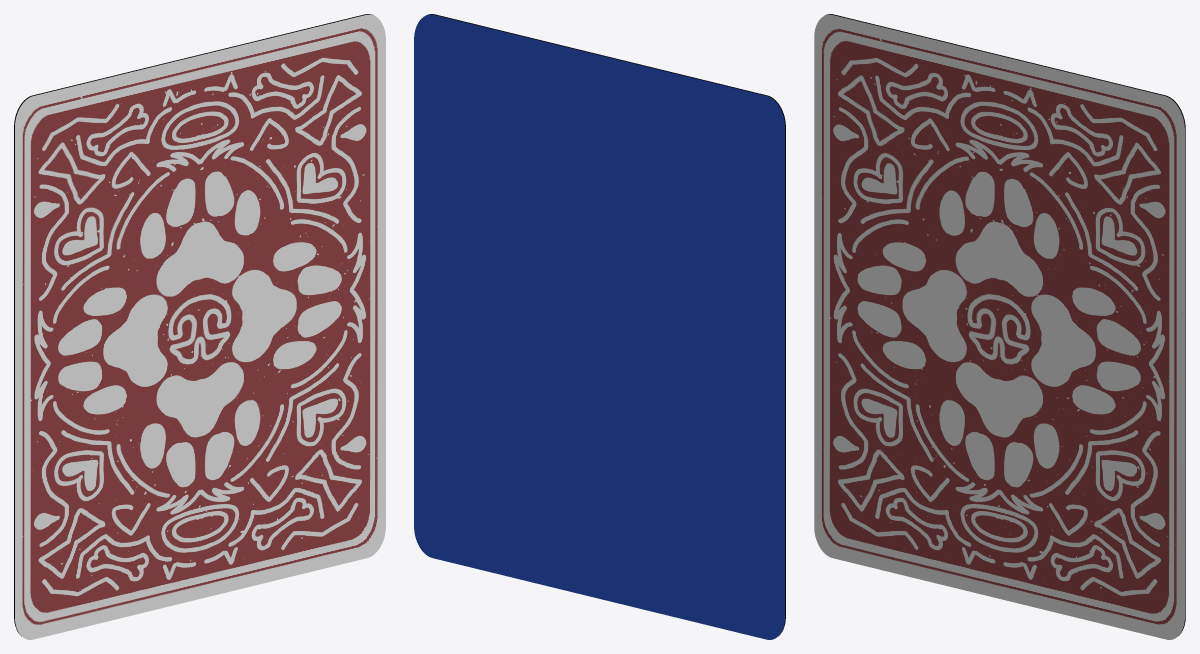
The model's file is dogcard.fbx.
3 views of the same model, side by side, from view 1: azimuth 30°, elevation 25°; view 2: azimuth 150°, elevation 25°; view 3: azimuth 330°, elevation 25° (orthographic).
Visible parts, largest first — view 1: Cube; view 2: Cube; view 3: Cube.
Part boxes in pixels (<box>): Cube: <box>14,14,385,639</box>; Cube: <box>414,14,785,639</box>; Cube: <box>814,14,1185,639</box>.
Size of the model in its own units: 500 by 700 by 2.
